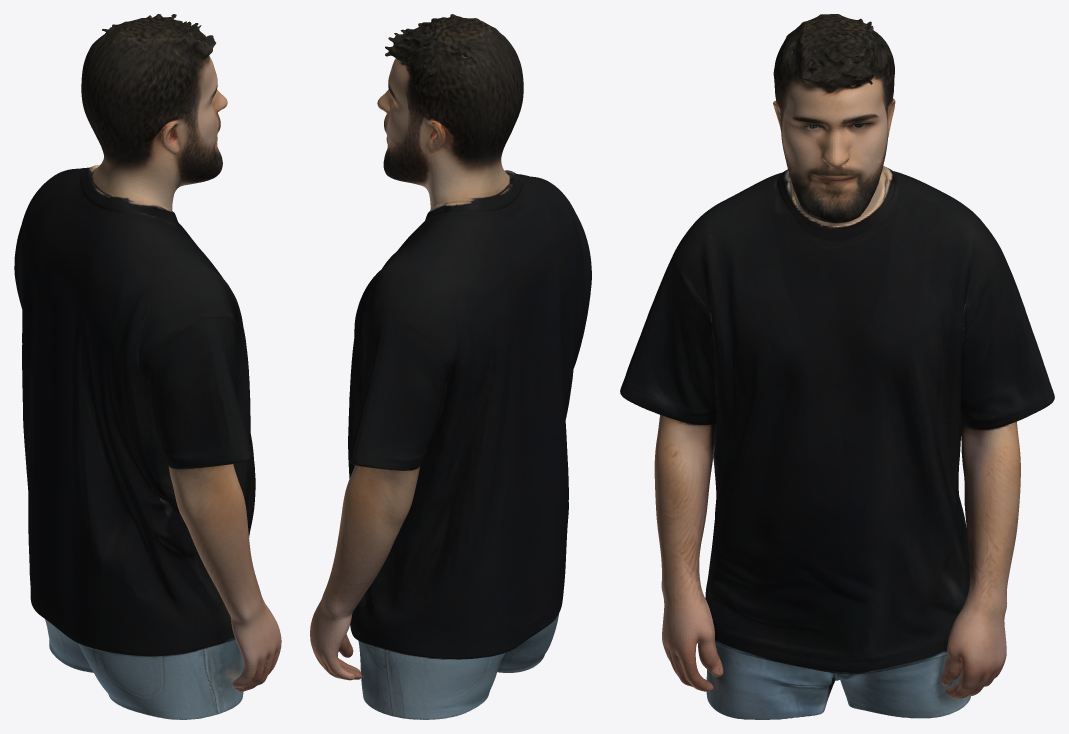
File: black-tshirt-model.glb
3 views of the same model, side by side, from view 1: azimuth 30°, elevation 25°; view 2: azimuth 150°, elevation 25°; view 3: azimuth 270°, elevation 25° (orthographic). The views are drawn at different scales.
Parts seen in each view (by area): view 1: tripo_node_b23105b1-c737-4966-bcb3-36b0d6b8ef34; view 2: tripo_node_b23105b1-c737-4966-bcb3-36b0d6b8ef34; view 3: tripo_node_b23105b1-c737-4966-bcb3-36b0d6b8ef34.
Boxes of the visible parts, box(x1,y1,x2,y2) form: tripo_node_b23105b1-c737-4966-bcb3-36b0d6b8ef34: box(14, 14, 281, 719); tripo_node_b23105b1-c737-4966-bcb3-36b0d6b8ef34: box(310, 14, 591, 719); tripo_node_b23105b1-c737-4966-bcb3-36b0d6b8ef34: box(620, 14, 1054, 719).
Bounding box in the file's own units: 0.2907 × 1 × 0.5862.
Materials: 1 (1 with a texture image).
